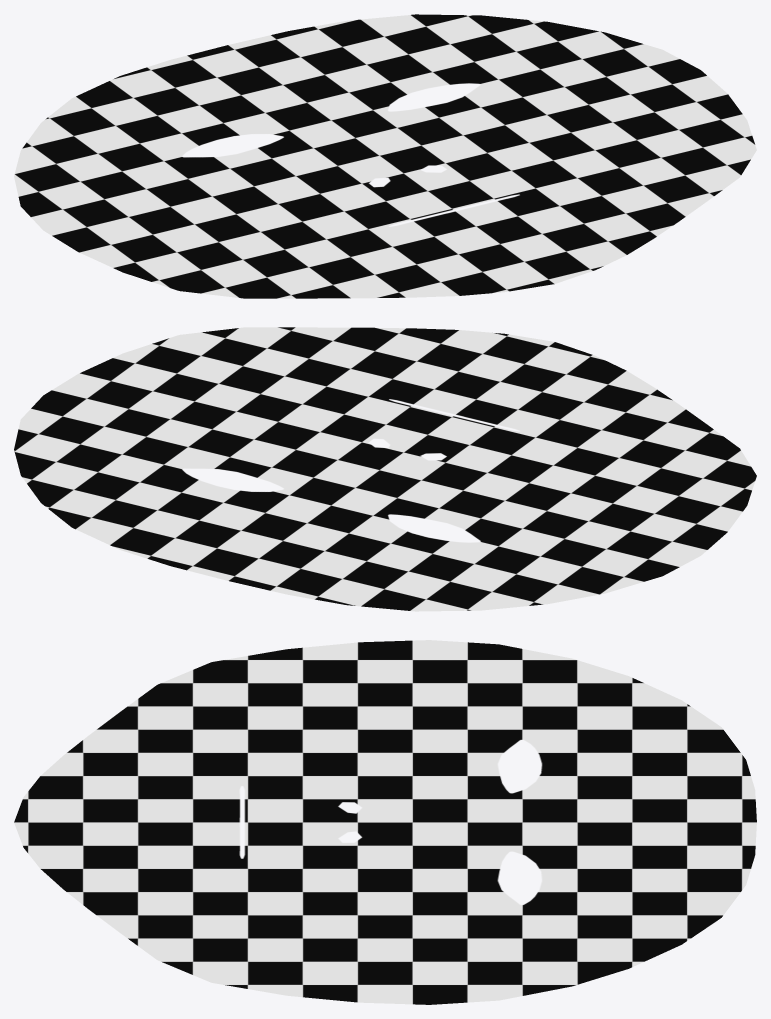
The model's file is facemesh.glb.
3 renders of one model, top to bottom at view 1: azimuth 30°, elevation 25°; view 2: azimuth 150°, elevation 25°; view 3: azimuth 270°, elevation 25°, orthographic. The views are drawn at different scales.
Parts seen in each view (by area): view 1: FaceMesh; view 2: FaceMesh; view 3: FaceMesh.
Part boxes in pixels (x1,y1,x2,y2): FaceMesh: [14, 14, 756, 298]; FaceMesh: [14, 327, 756, 611]; FaceMesh: [14, 640, 756, 1004].
Size of the model in its own units: 0.0983 by 7.39e-09 by 0.0846.
1 material, 1 textured.
